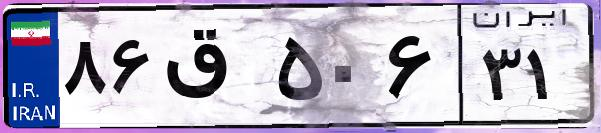0: (330, 28, 385, 110)
1: (525, 38, 570, 115)
3: (475, 38, 525, 113)
5: (270, 28, 330, 110)
6: (385, 28, 445, 110), (110, 28, 158, 98)
8: (57, 26, 110, 100)
ق: (158, 20, 270, 120)
